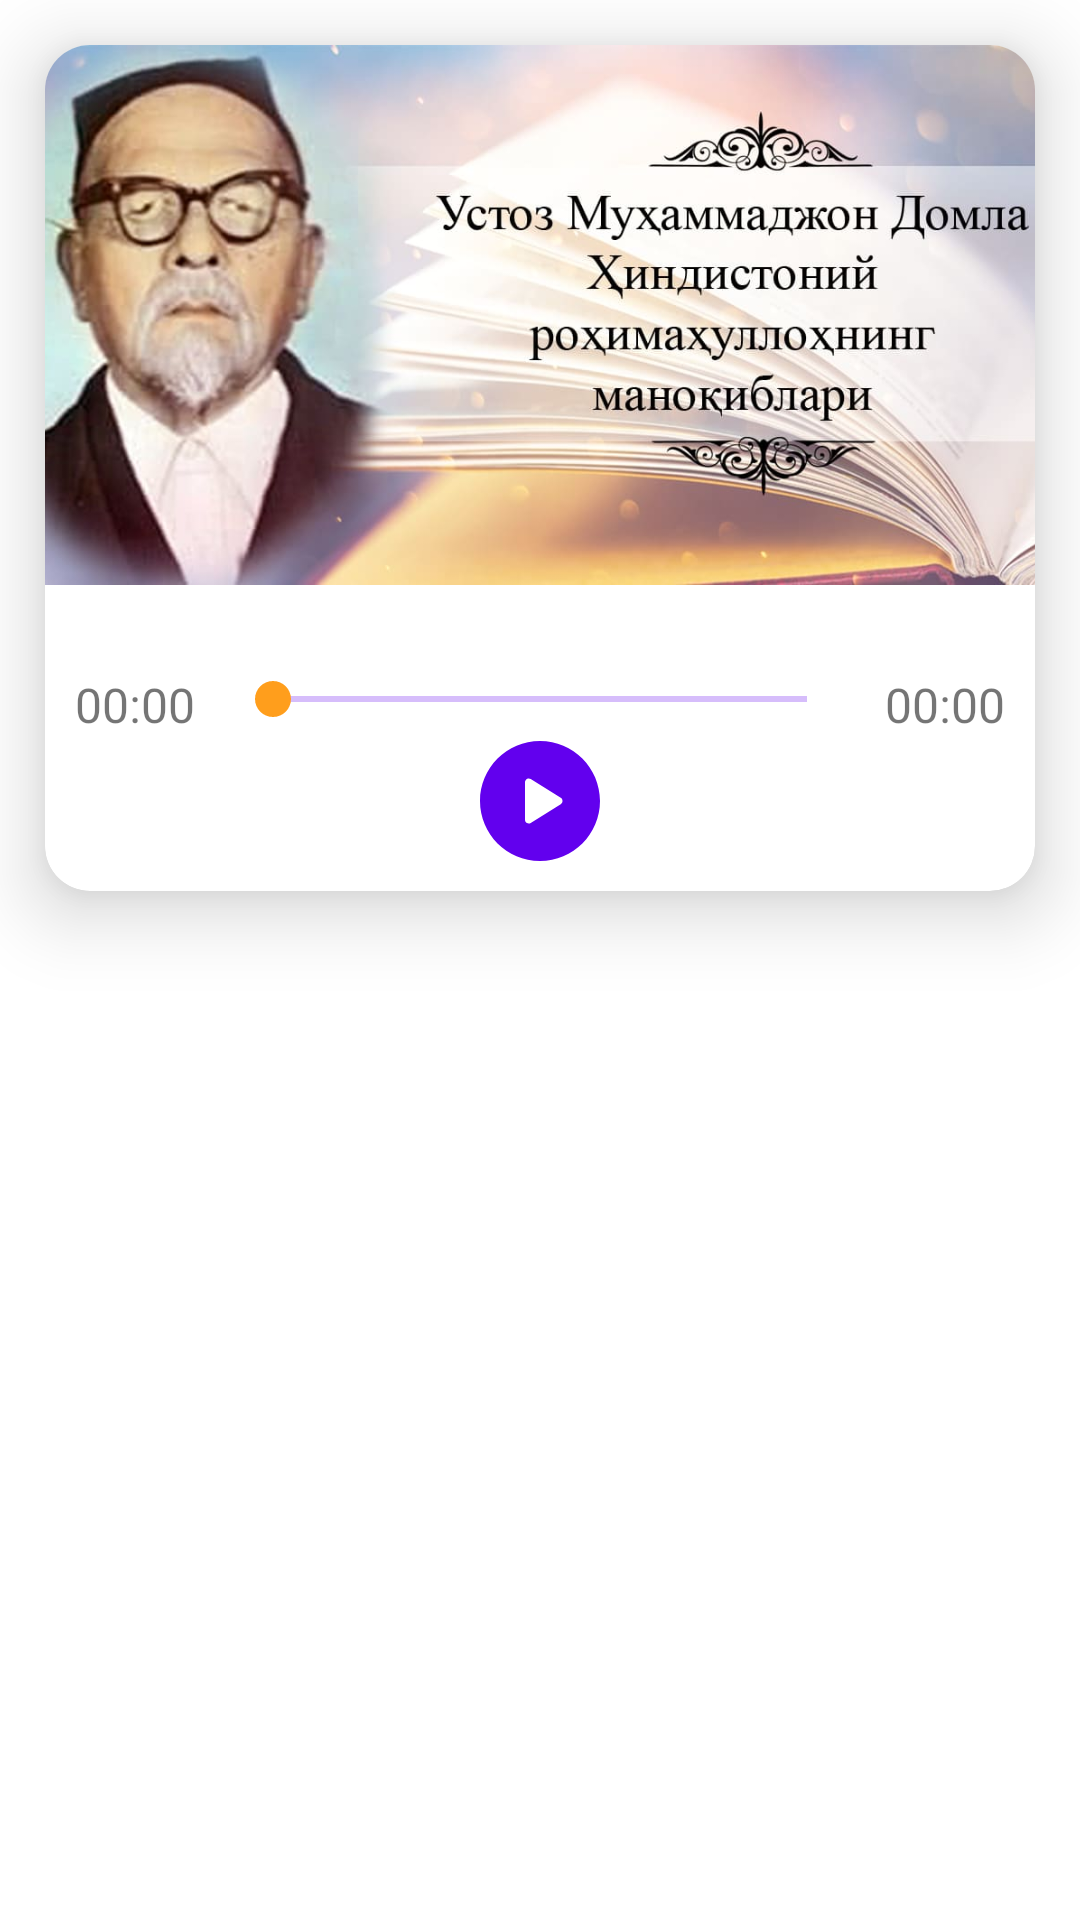

Named icons in this screenshot (1080*1920) and their bounding boxes, region(x1, y1, x2, y2):
play: region(480, 741, 600, 861)
